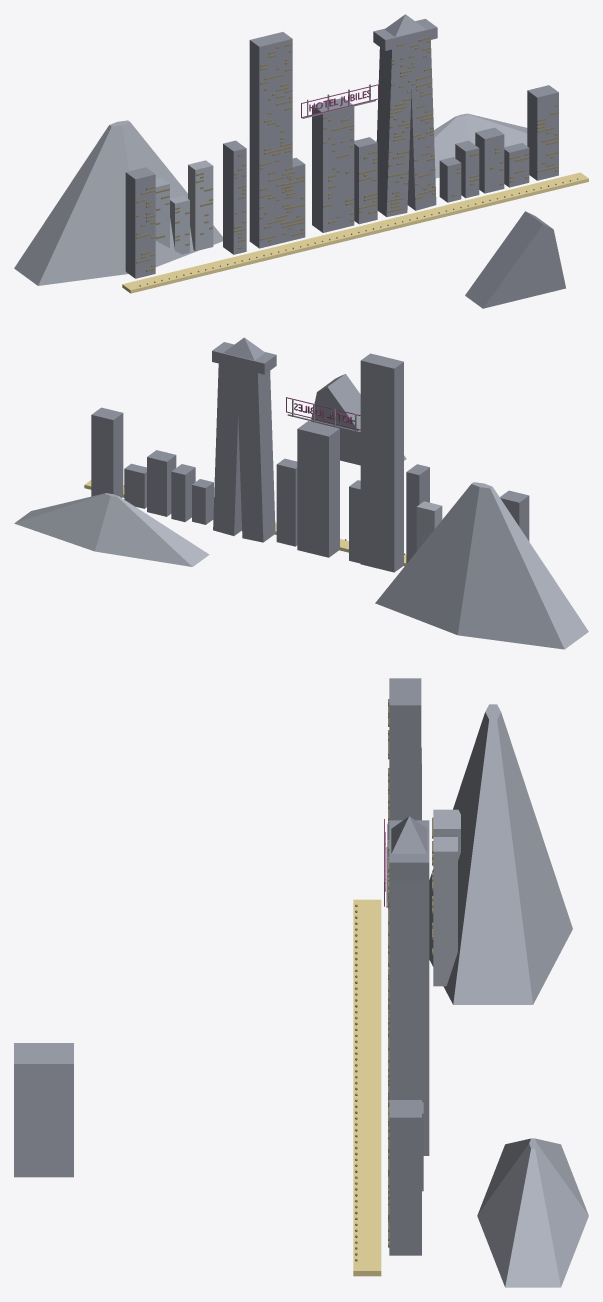
The model's file is CR_Skyline_Benidorm.fbx.
3 views of the same model, one above another, from view 1: azimuth 30°, elevation 25°; view 2: azimuth 150°, elevation 25°; view 3: azimuth 270°, elevation 25° (orthographic). The views are drawn at different scales.
Parts seen in each view (by area): view 1: CR_Skyline_Benidorm; view 2: CR_Skyline_Benidorm; view 3: CR_Skyline_Benidorm.
Part boxes in pixels (left/top/right/bottom): CR_Skyline_Benidorm: left=14, top=14, right=588, bottom=308; CR_Skyline_Benidorm: left=14, top=337, right=588, bottom=649; CR_Skyline_Benidorm: left=14, top=678, right=588, bottom=1287.
Size of the model in its own units: 515 by 189 by 288.
